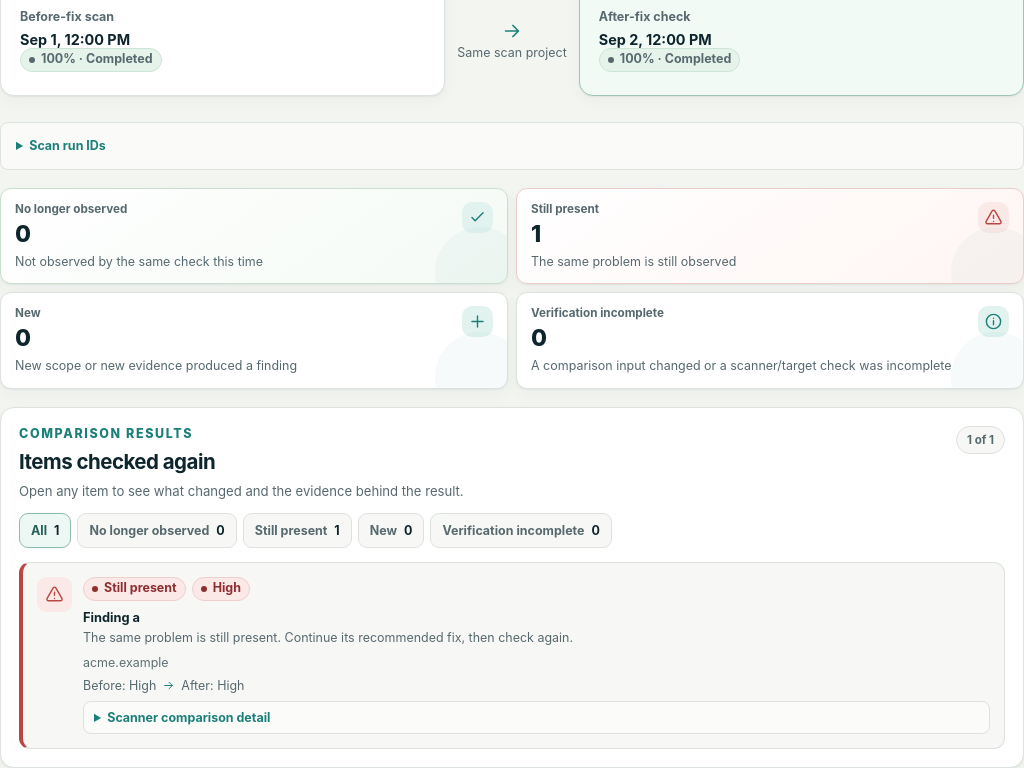
Scenario: an outcome filter that matches nothing offers the next filter action
(page scrolled)
What coordinates should you click on to do the following:
click the button "No longer observed 0"
I would click on:
 (157, 530)
Its box is [77, 513, 237, 548].
(page scrolled)
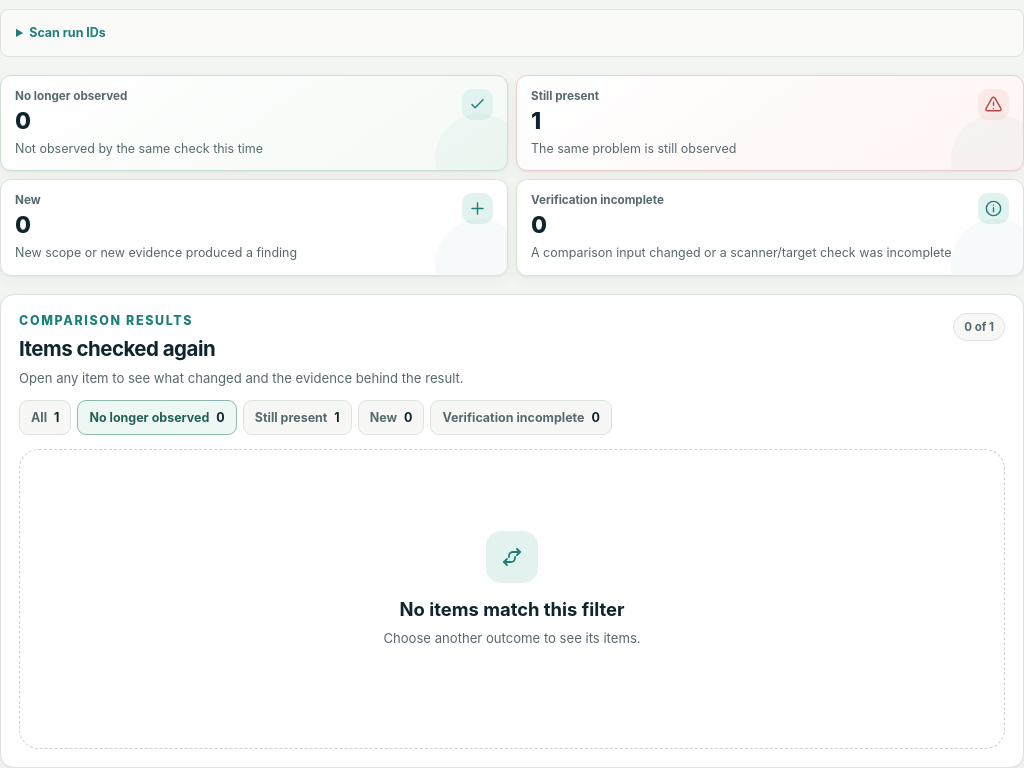
expect the element with class "empty-state" shows "No items match this filter": met, box [400, 598, 624, 620]
expect the element with class "empty-state" shows "Choose another outcome to see its items": met, box [383, 630, 641, 646]
expect no elements with class "diff-row" are shown: met
